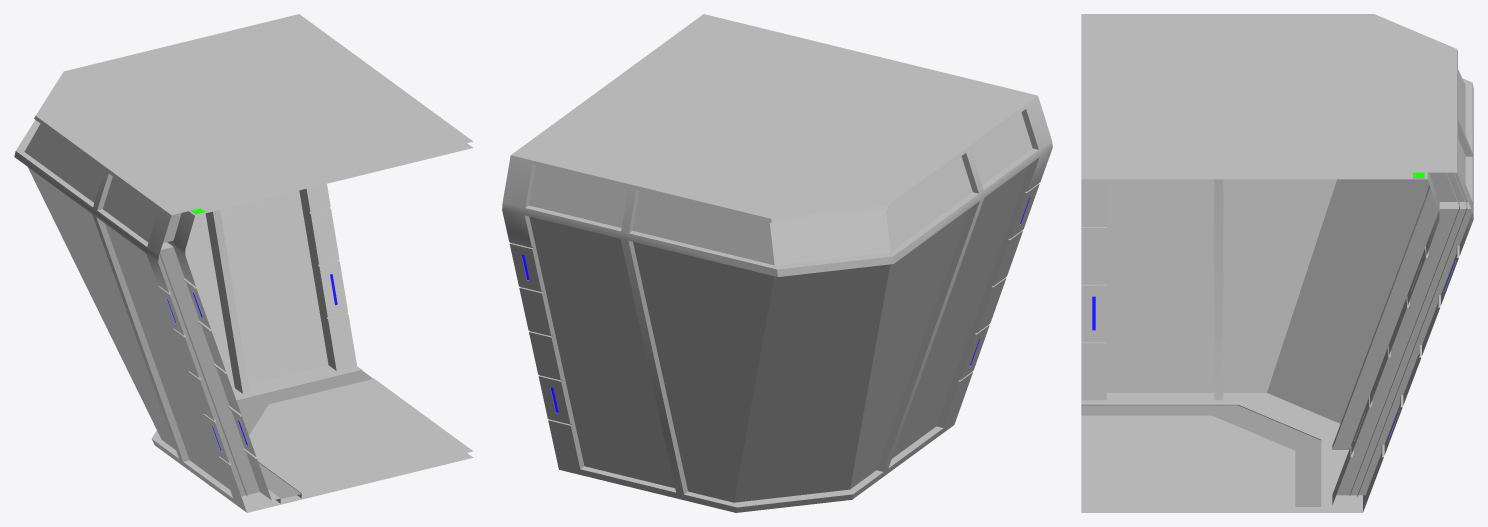
The model's file is Wall_30_Corner.FBX.
The picture shows the model from 3 angles, left to right: view 1: azimuth 30°, elevation 25°; view 2: azimuth 150°, elevation 25°; view 3: azimuth 270°, elevation 25°; orthographic projection. The views are drawn at different scales.
Visible parts, largest first — view 1: Wall_30_Corner_LOD0; view 2: Wall_30_Corner_LOD0; view 3: Wall_30_Corner_LOD0.
Boxes of the visible parts, <box> form: Wall_30_Corner_LOD0: <box>14,14,473,512</box>; Wall_30_Corner_LOD0: <box>502,14,1052,512</box>; Wall_30_Corner_LOD0: <box>1081,14,1473,512</box>.
Size of what is drawn, in the model's own units: 188 by 180 by 188.
